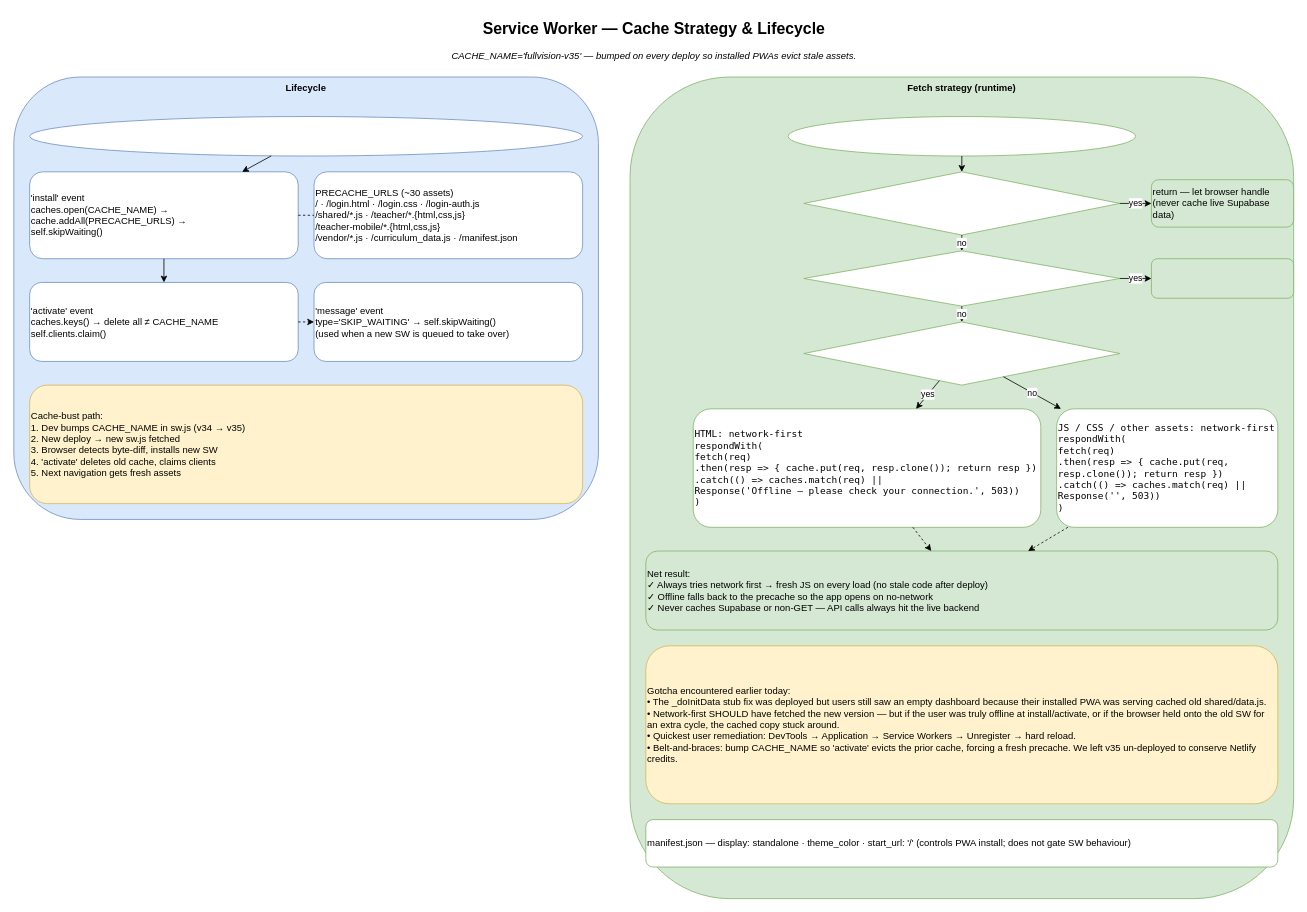
Image size: 1307x912. Some labels were removed from this diagram. Each missing label, with the centre of its shape:
"Browser loads HTML → script> navigator.serviceWorker.register('/sw.js')" goes at point 306,136.
"fetch event for URL u, method m" goes at point 961,136.
"method !== 'GET' ?" goes at point 961,278.
"request.mode === 'navigate' or Accept header includes text/html ?" goes at point 961,353.
"return — never cache mutations" goes at point 1222,278.
"u.hostname contains 'supabase.co' ?" goes at point 961,203.
